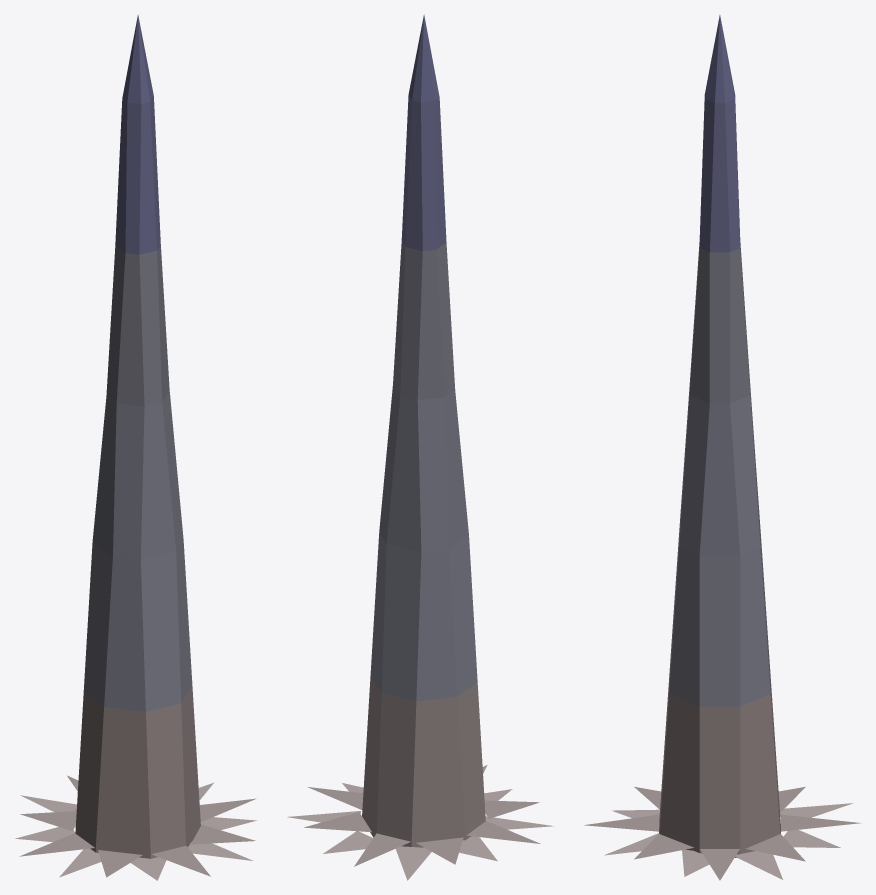
File: gfx_83.obj
The picture shows the model from 3 angles, left to right: view 1: azimuth 30°, elevation 25°; view 2: azimuth 150°, elevation 25°; view 3: azimuth 270°, elevation 25°; orthographic projection.
Bounding box in the file's own units: 0.8438 × 2.78 × 0.8594.
